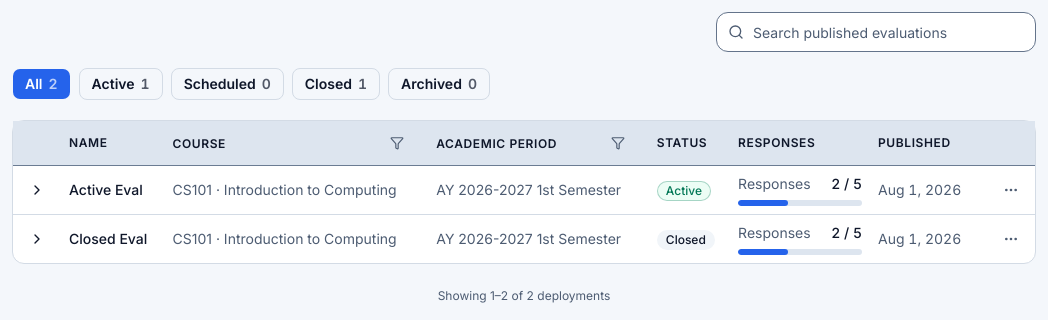
Test case: FacultyPublishedEvaluations › keeps the status filter row reachable when a status matches nothing
The width and height of the screenshot is (1048, 320).
Click the button "Scheduled 0" at {"x": 227, "y": 84}, box [171, 68, 284, 100]
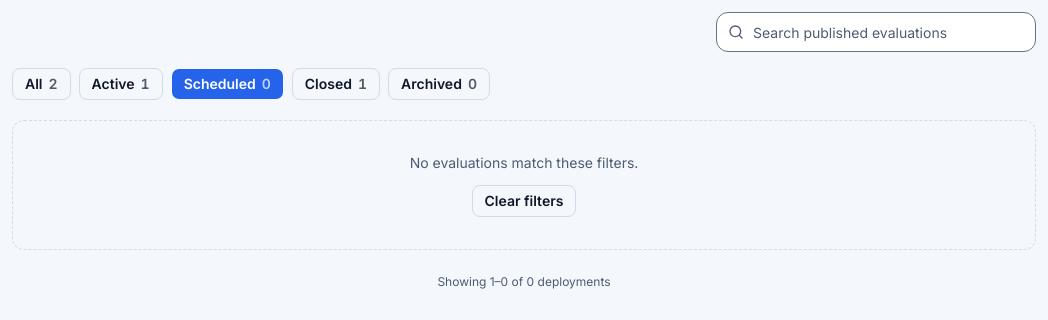
Expected: the element named "filter by deployment status" is shown, [12, 68, 490, 100]
Click the button "Closed 1" at {"x": 336, "y": 84}, box [292, 68, 380, 100]
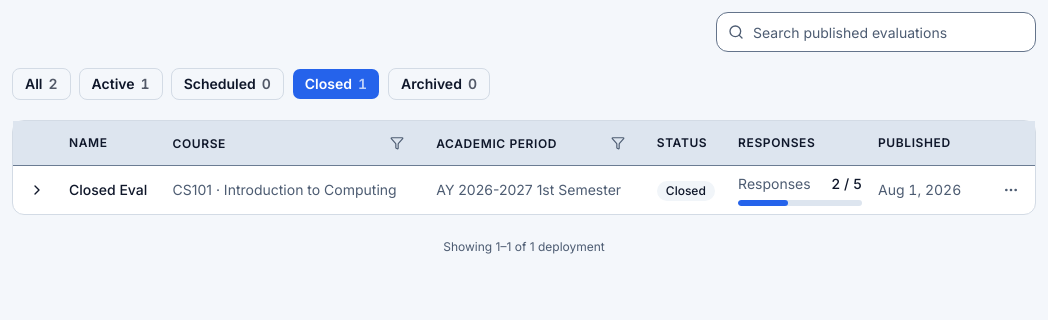
Expected: the text "Closed Eval" is shown, [69, 180, 156, 200]
